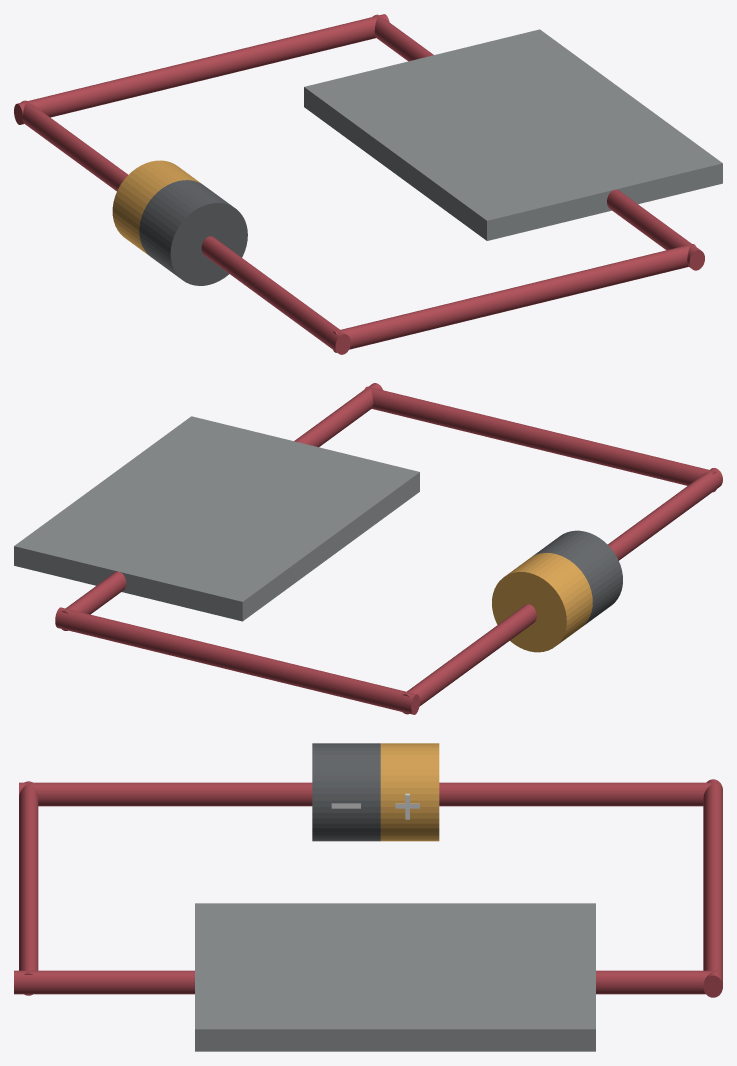
File: placa_bateria_fio.glb
The picture shows the model from 3 angles, top to bottom: view 1: azimuth 30°, elevation 25°; view 2: azimuth 150°, elevation 25°; view 3: azimuth 270°, elevation 25°; orthographic projection. The views are drawn at different scales.
Visible parts, largest first — view 1: Mesh_Mesh_head_geo.001_lambert2SG.001; view 2: Mesh_Mesh_head_geo.001_lambert2SG.001; view 3: Mesh_Mesh_head_geo.001_lambert2SG.001.
Part boxes in pixels (left/top/right/bottom): Mesh_Mesh_head_geo.001_lambert2SG.001: left=14, top=14, right=722, bottom=354; Mesh_Mesh_head_geo.001_lambert2SG.001: left=14, top=383, right=722, bottom=714; Mesh_Mesh_head_geo.001_lambert2SG.001: left=14, top=743, right=722, bottom=1051.
Bounding box in the file's own units: 129 × 20 × 145.
